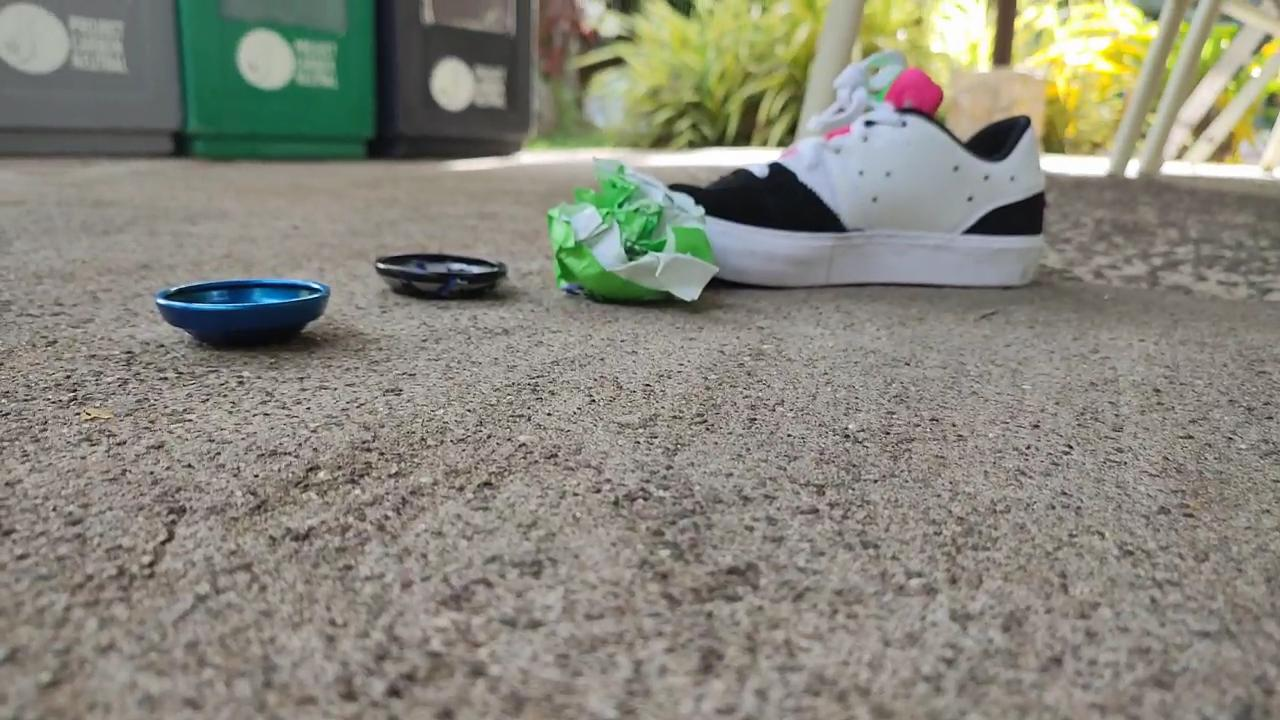paper: (548, 162, 716, 302)
